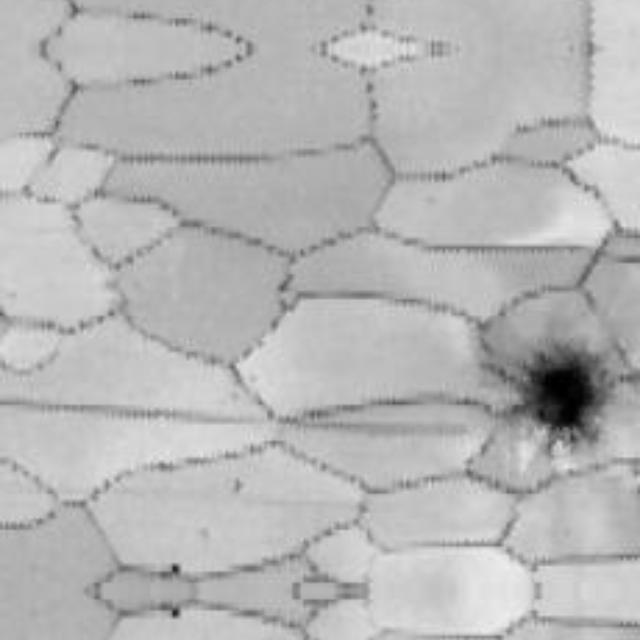good_void: (478, 338, 612, 458), (227, 476, 245, 494), (168, 560, 183, 576), (168, 605, 183, 621)
